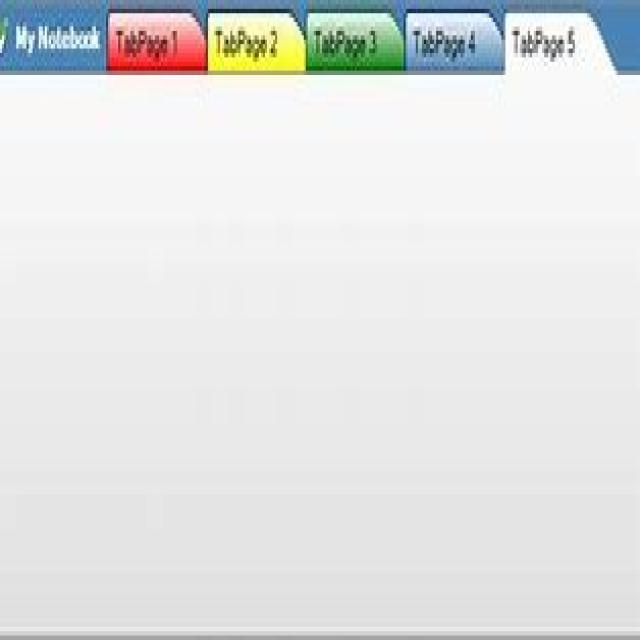label: (17, 14, 102, 66)
tabControl: (104, 0, 640, 84)
